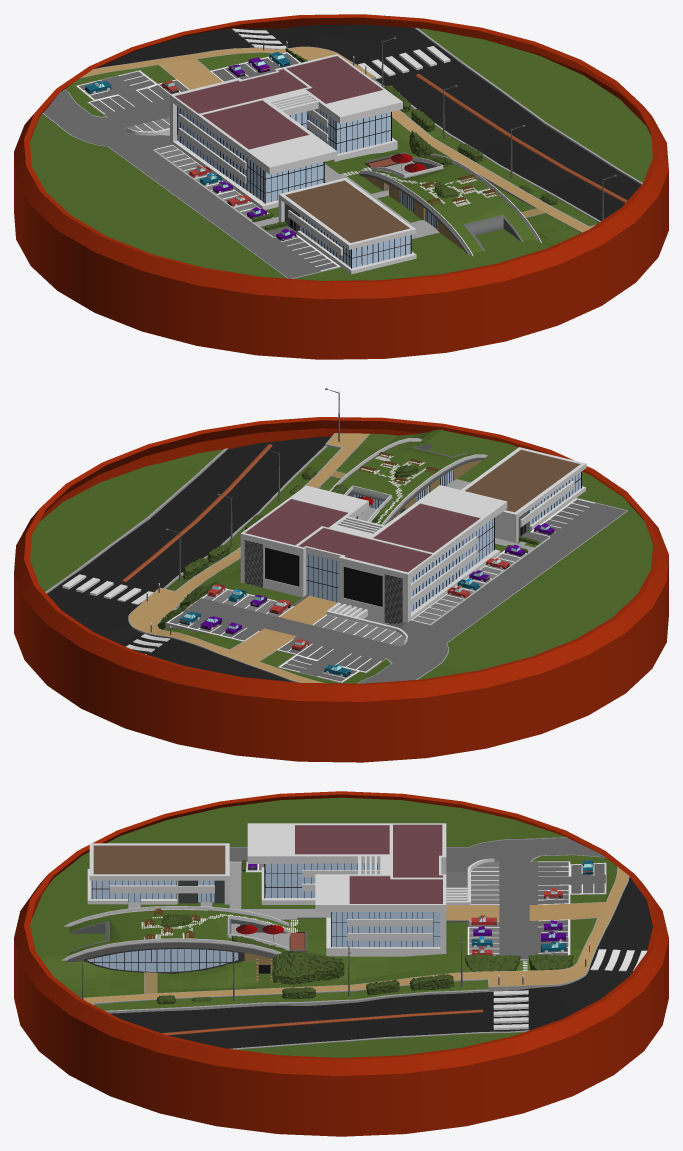
Rendered from LDLC3D.fbx.
3 renders of one model, top to bottom at view 1: azimuth 30°, elevation 25°; view 2: azimuth 150°, elevation 25°; view 3: azimuth 270°, elevation 25°, orthographic.
Parts seen in each view (by area): view 1: Sphere, Cube.035, Cube.550, Cube.036, Cube.001, Cube, Hub, Cube.031, Cube.120, Cube.192, Cube.003, Cube.008 (+9 smaller); view 2: Sphere, Cube.035, Cube.036, Cube.550, Cube.001, Cube, Cube.031, Hub, Cube.003, Cube.192, Cube.120, Cube.028 (+12 smaller); view 3: Sphere, Cube.035, Cube.036, Cube.550, Cube.003, Hub, Cube.001, Cube.031, Cube.120, Cube.192, Cube, Cube.008 (+15 smaller).
Boxes of the visible parts, x1,y1,x2,y2 form: Sphere: (14,14,668,359); Cube.035: (170,54,402,209); Cube.550: (30,114,543,280); Cube.036: (97,24,640,221); Cube.001: (43,53,439,278); Cube: (418,28,652,182); Hub: (359,154,541,256); Cube.031: (80,28,642,232); Cube.120: (278,178,416,274); Cube.192: (285,180,409,242); Cube.003: (339,107,598,249); Cube.008: (42,52,439,278); Sphere: (14,417,668,762); Cube.035: (240,485,507,624); Cube.036: (47,436,331,681); Cube.550: (418,430,652,679); Cube.001: (169,499,626,683); Cube: (30,449,223,591); Cube.031: (45,433,369,683); Hub: (329,438,487,525); Cube.003: (166,429,442,607); Cube.192: (465,450,579,512); Cube.120: (461,447,586,542); Cube.028: (203,552,528,646); Sphere: (14,791,668,1136); Cube.035: (247,823,446,956); Cube.036: (110,877,652,1048); Cube.550: (30,797,565,955); Cube.003: (39,922,575,1010); Hub: (61,906,293,971); Cube.001: (229,837,605,958); Cube.031: (81,866,629,1049); Cube.120: (87,843,229,904); Cube.192: (93,845,225,874); Cube: (237,1032,523,1057); Cube.008: (128,837,606,960).
Size of the model in its own units: 42300 by 9375 by 42300.
